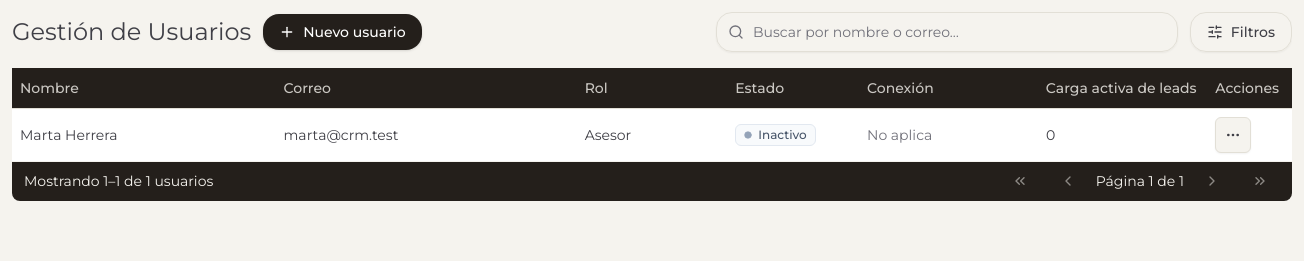
Test: UsuariosPage — listado con rol, estado y carga activa de leads › un usuario inactivo se muestra con la etiqueta «Inactivo» y el menú de acciones ofrece «Reactivar» en vez de «Dar de baja»
Expected: the text "Inactivo" is shown, [735,124,816,146]
Click the button named "Acciones de Marta Herrera": (1233, 134) [1215,116,1251,152]
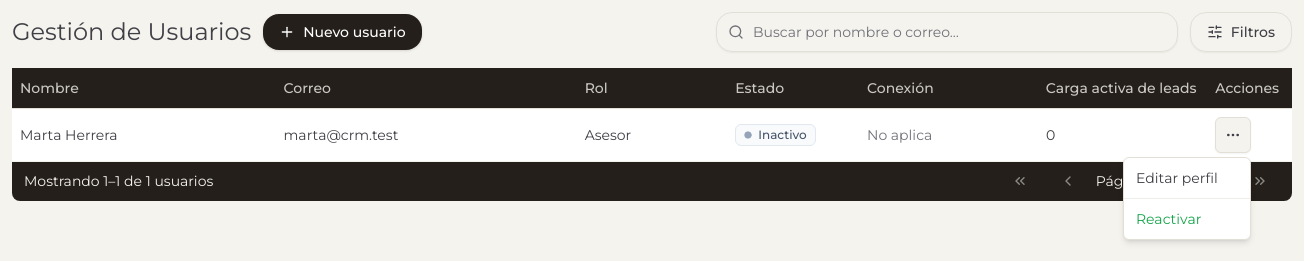
Result: the menu item "Reactivar" is shown at [1136,210,1201,228]
